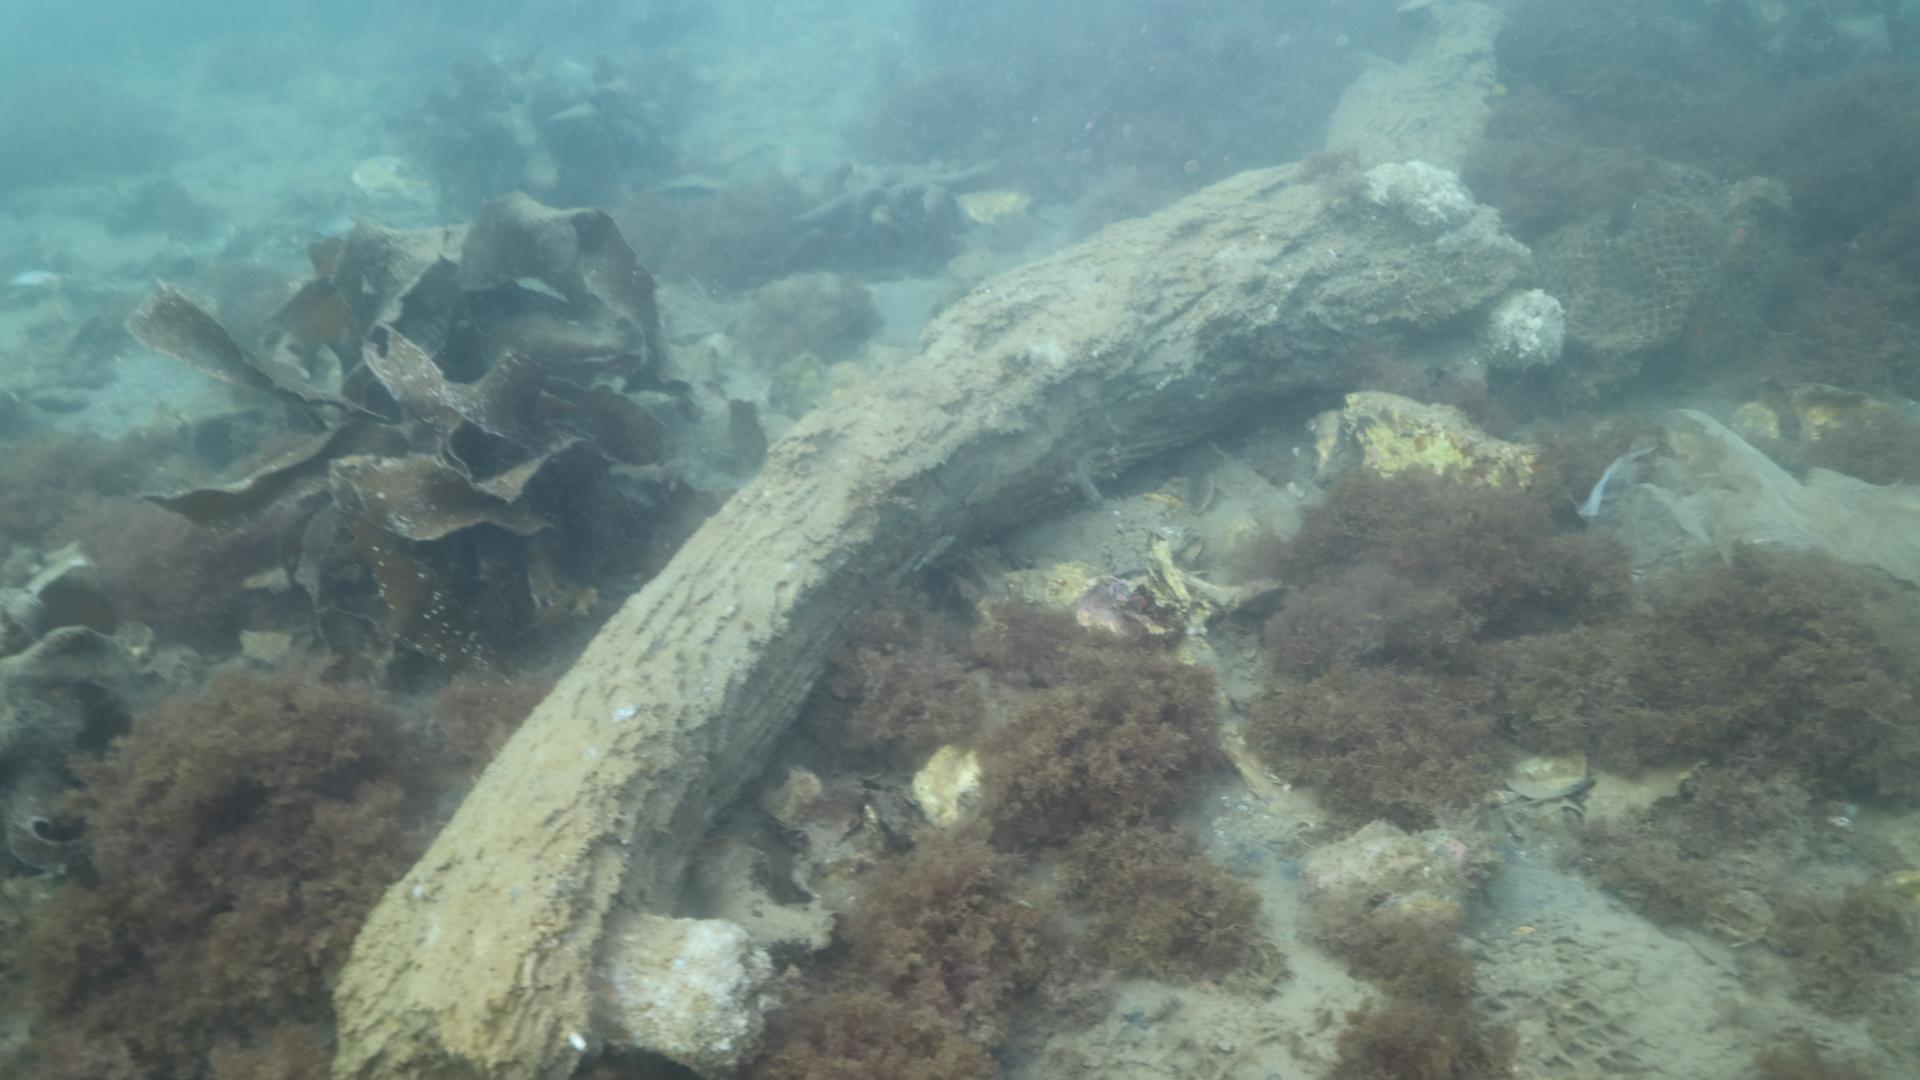fish net: (1545, 167, 1784, 367)
wood: (328, 156, 1536, 1080)
